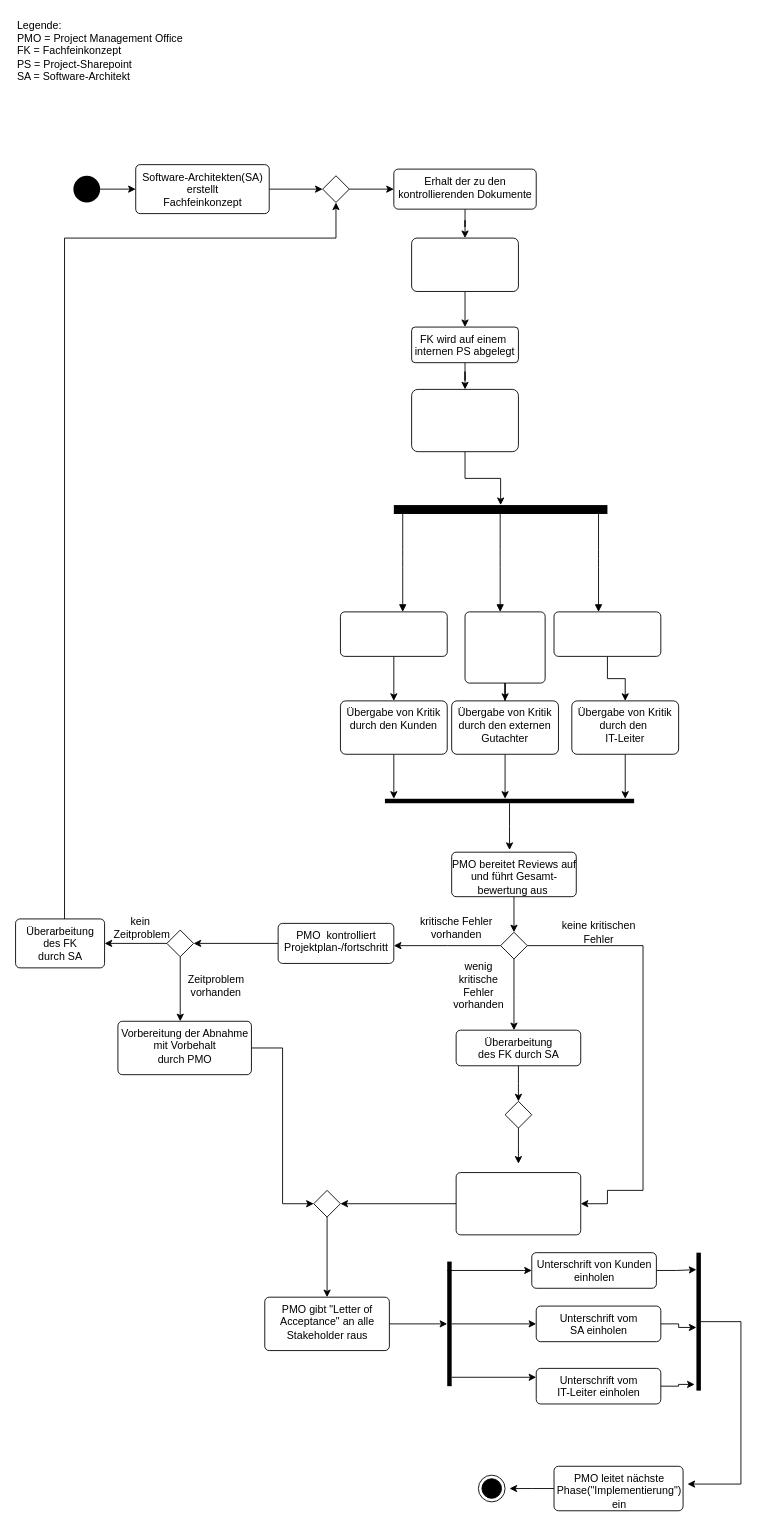
This 764x1526 diagram has some shape labels left out. The centre of each missing label's shape, as x and y in pixels:
"Aufarbeitung der Dokumente durch den PMO" belongs at (464,264).
"Review des FK durch den externen Gutachter durchführen" belongs at (504,647).
"Review des FK durch den Kunden durchführen" belongs at (393,633).
"Review des FK durch IT-Leiter durchführen" belongs at (607,633).
"Stakeholder, die an einem Review beteiligt sind, werden benachrichtigt" belongs at (464,420).
"Vorbereitung der Abnahme ohne Vorbehalt offener Punkte durch PMO" belongs at (518,1203).
